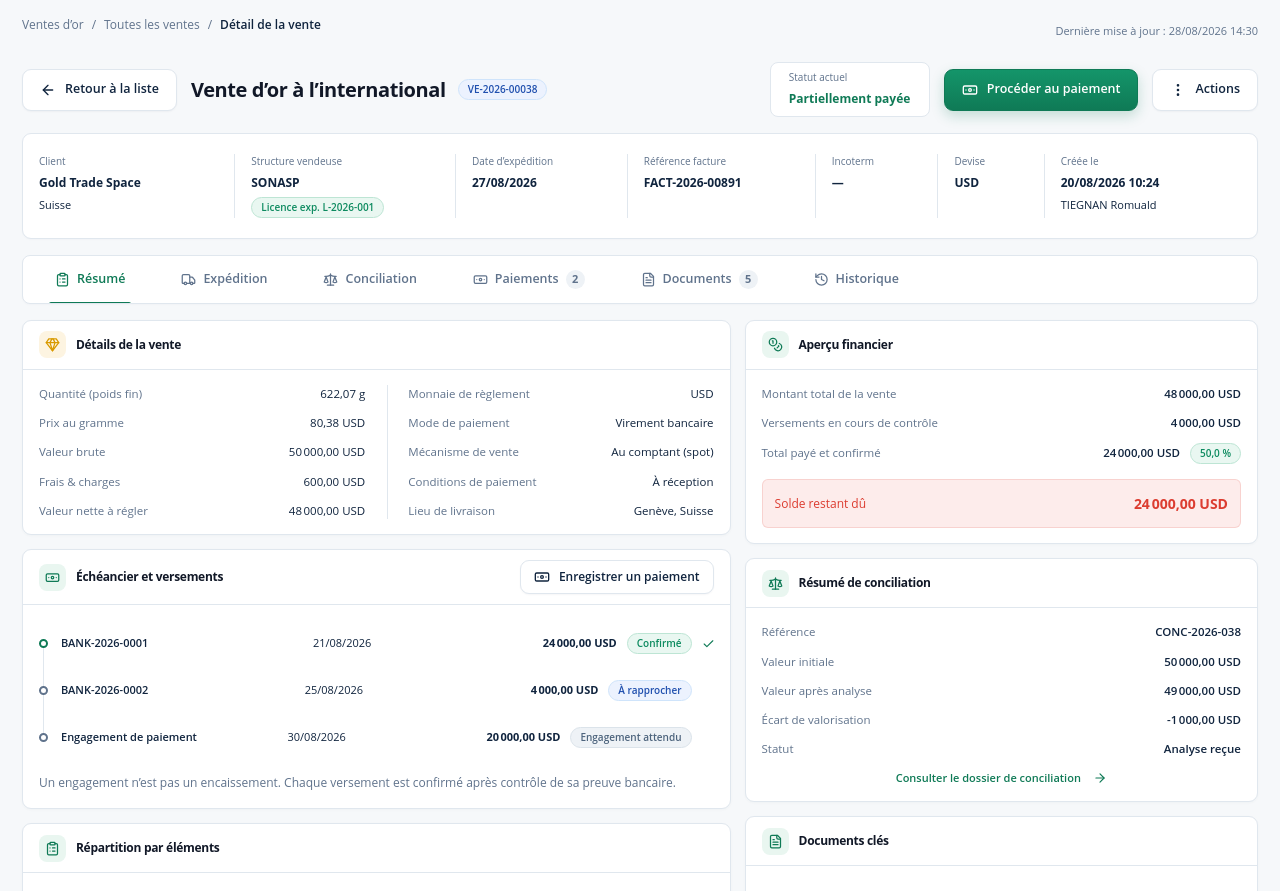
Test: International sale detail › provides distinct working tabs and links each payment to its detail
The width and height of the screenshot is (1280, 891).
Click the tab "Paiements 2" at (529, 279), box [457,256,600,303]
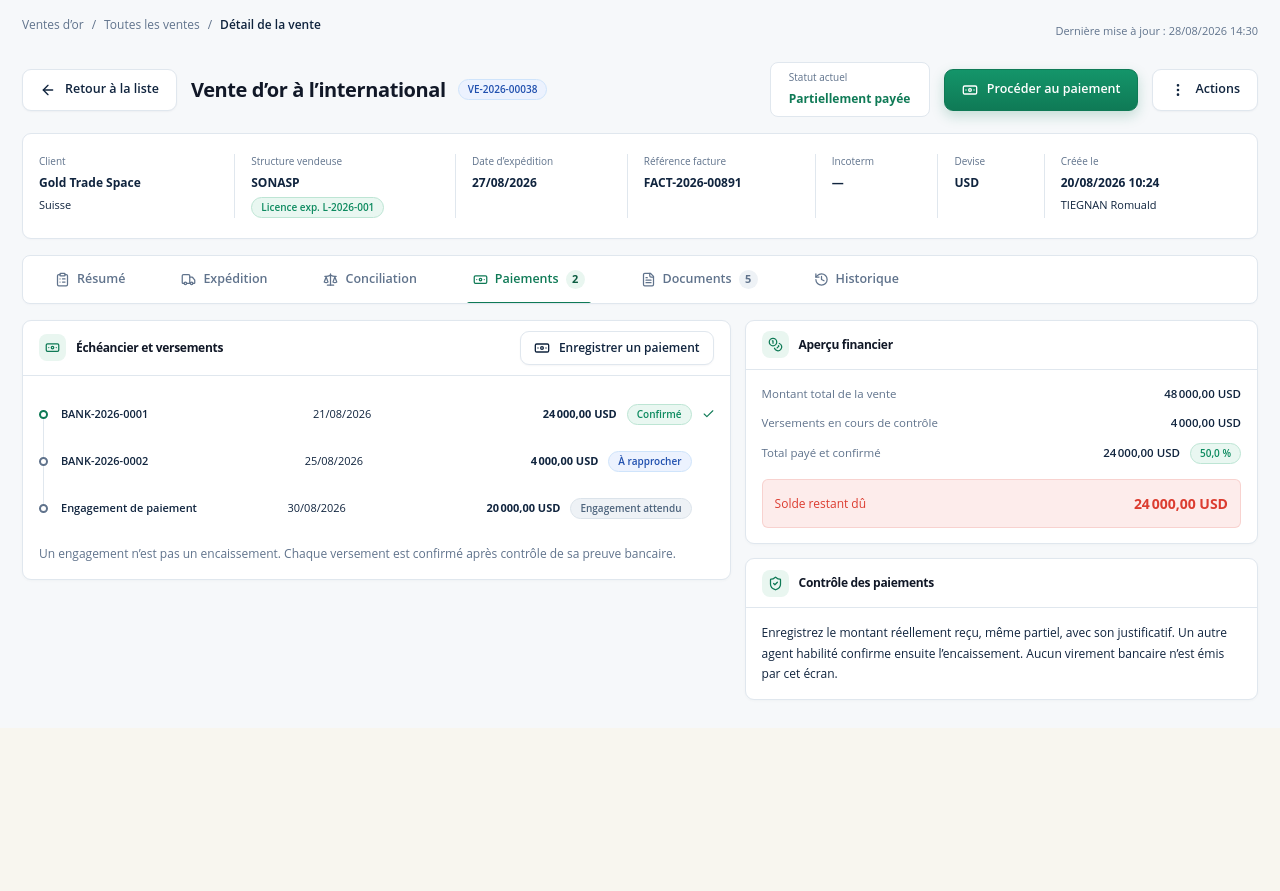
Check: the tab "Paiements 2" is selected, box [457,256,600,303]
Click the tab "Expédition" at (224, 279), box [165,256,284,303]
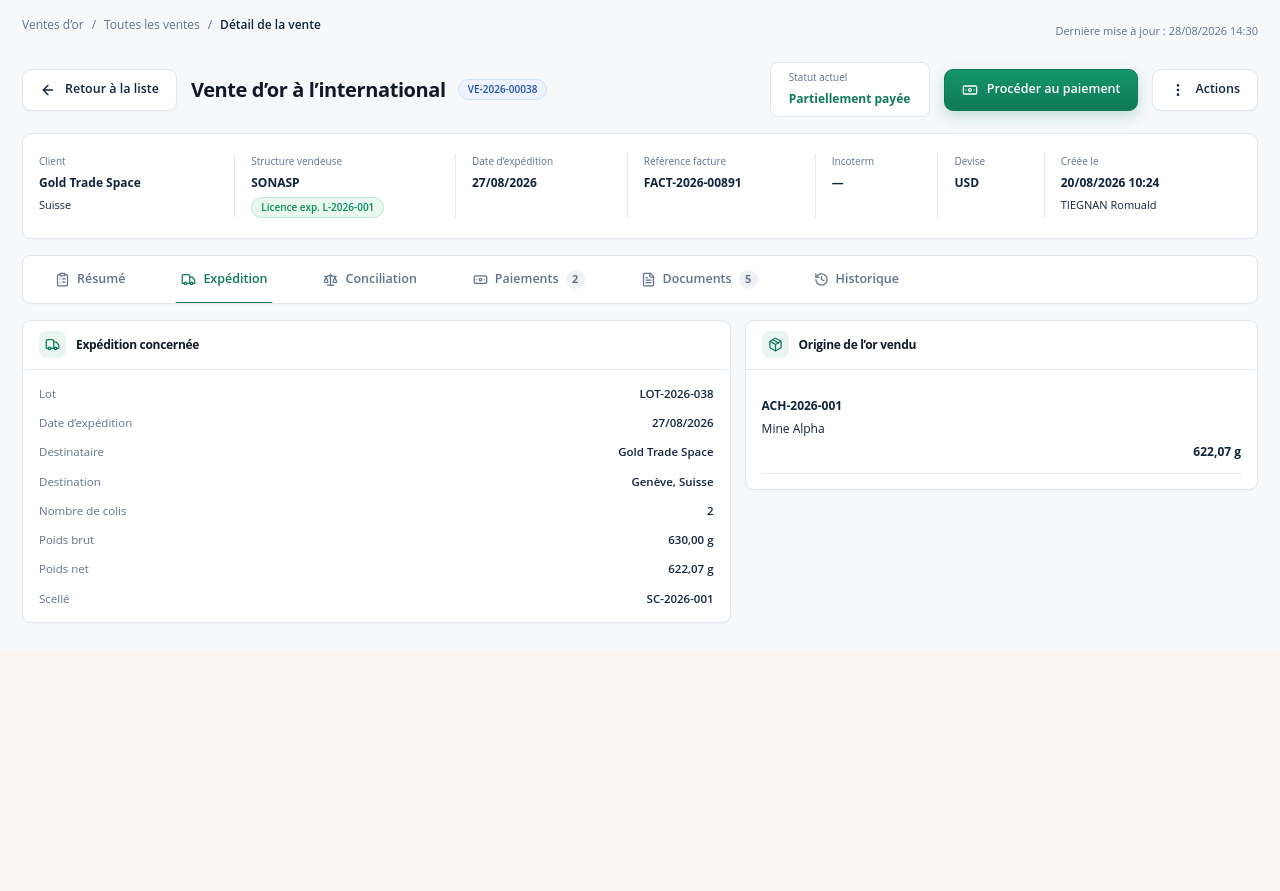
Check: the text "LOT-2026-038" is shown, box [639,385,714,402]
Check: the text "ACH-2026-001" is shown, box [762,397,842,414]
Click the tab "Historique" at (856, 279), box [798,256,915,303]
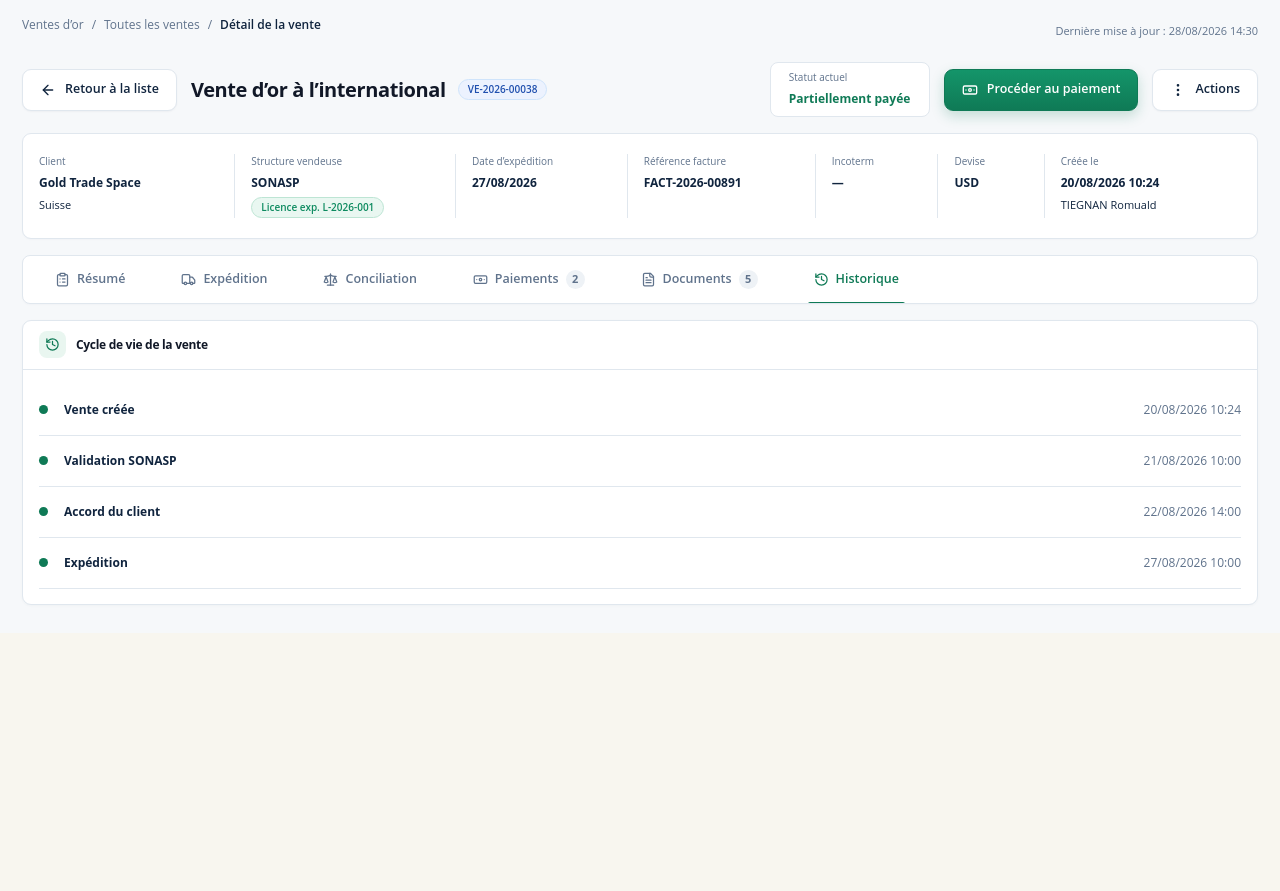
Check: the element "Cycle de vie de la vente" is shown, box [22,320,1258,605]
